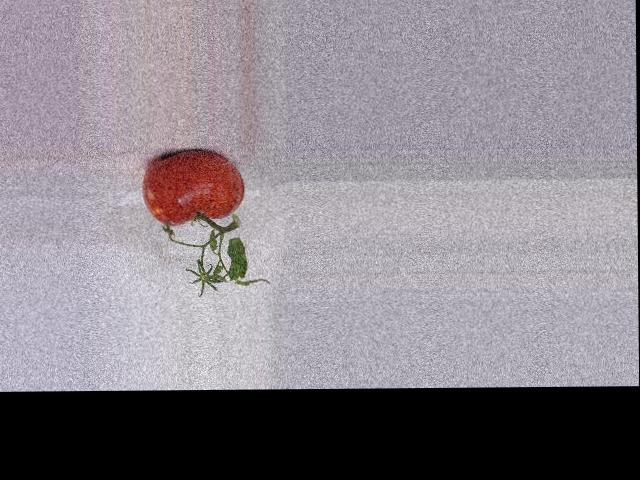tomato: (141, 149, 244, 225)
